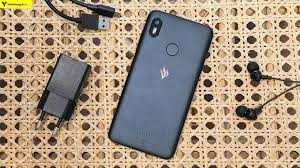vsmart: (96, 10, 216, 161)
